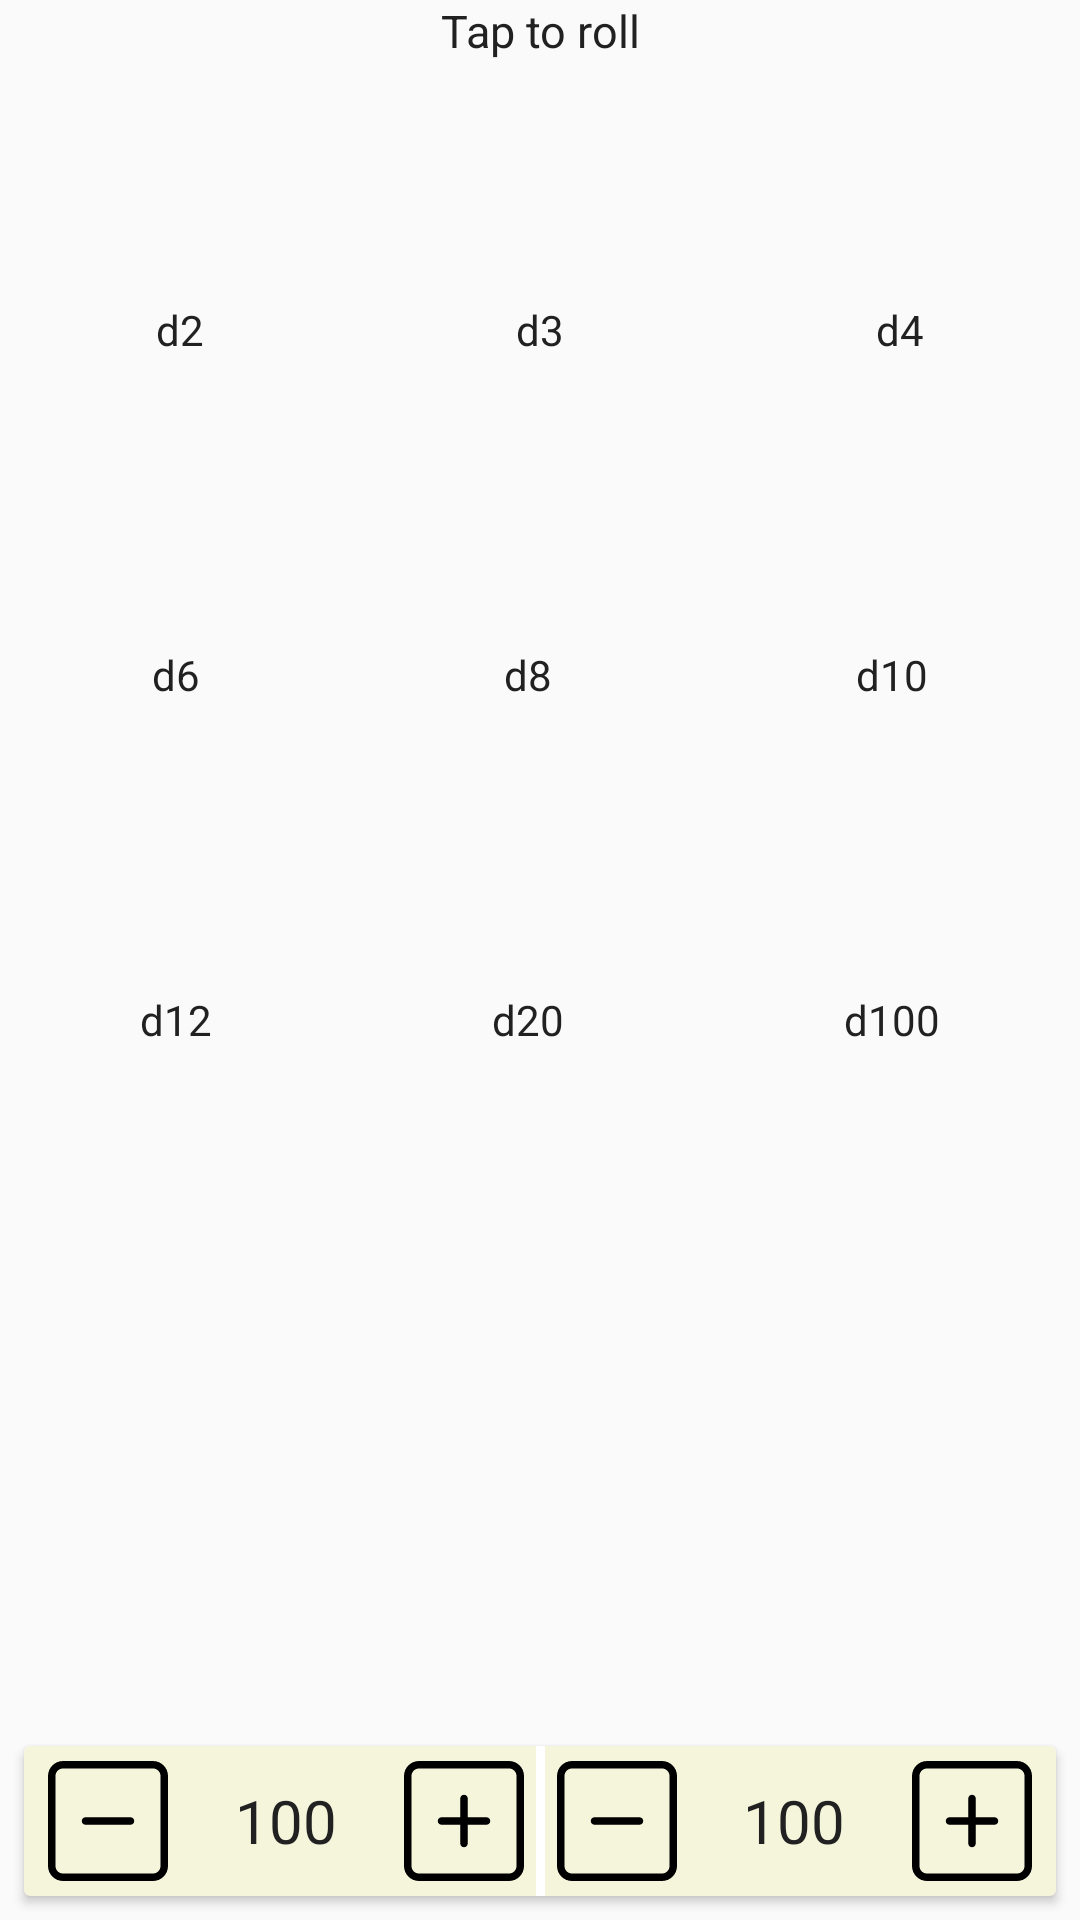

Screen size 1080×1920. Icon name, then its center in pixels as point (x, y):
add: point (464, 1821), point (972, 1821)
minus: point (108, 1821), point (617, 1821)
